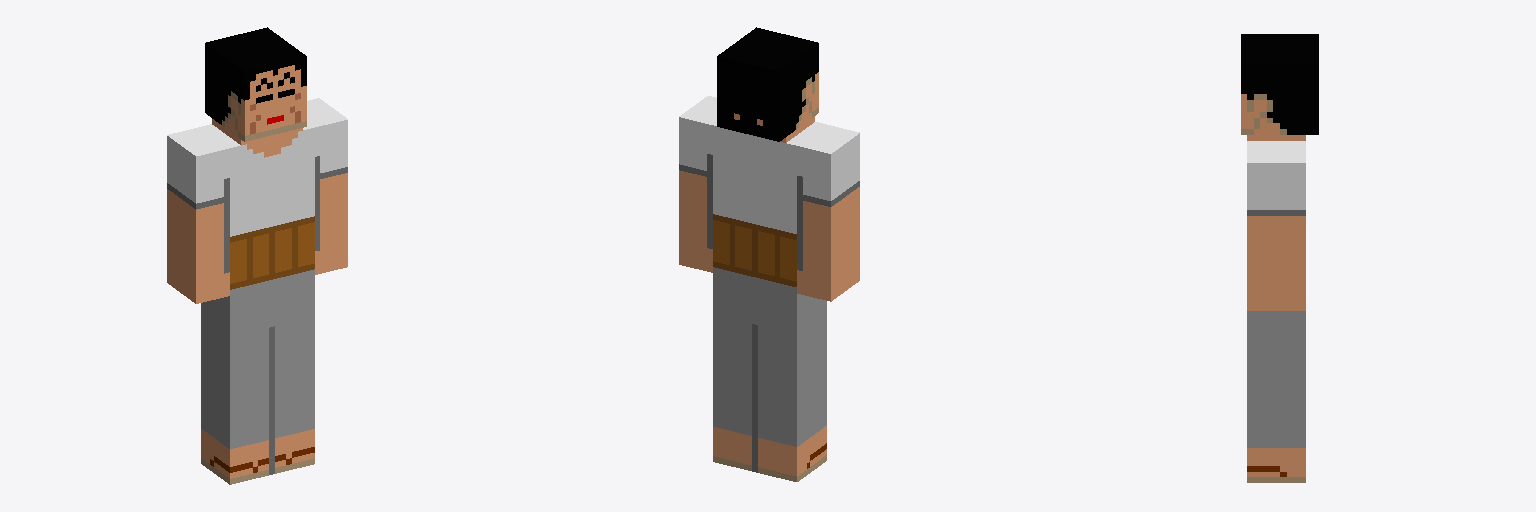
3 renders of one model, left to right at view 1: azimuth 30°, elevation 25°; view 2: azimuth 150°, elevation 25°; view 3: azimuth 270°, elevation 25°, orthographic.
Visible parts, largest first — view 1: object 1; view 2: object 1; view 3: object 1.
Part boxes in pixels (left/top/right/bottom): object 1: left=167, top=27, right=347, bottom=484; object 1: left=679, top=27, right=859, bottom=481; object 1: left=1241, top=34, right=1318, bottom=482.
Bounding box in the file's own units: 2.7 × 7 × 1.2.
Materials: 1 (1 with a texture image).